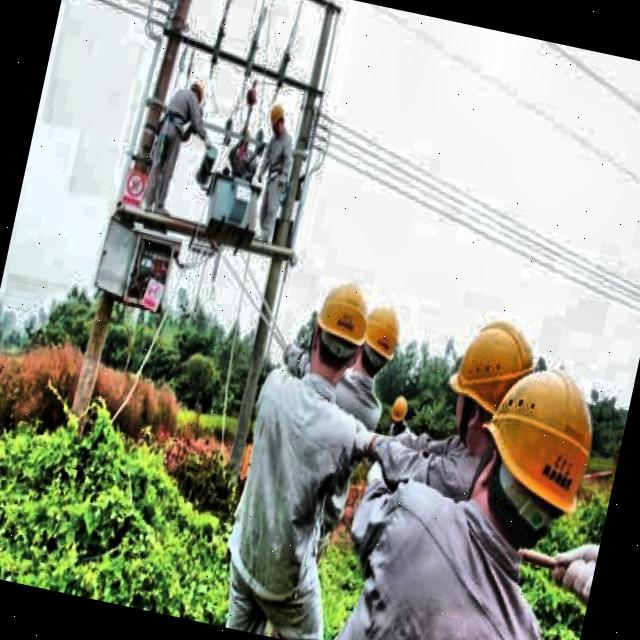helmet: (450, 338, 610, 540), (426, 301, 546, 467), (300, 263, 386, 389), (346, 284, 412, 389), (388, 388, 413, 433), (184, 74, 210, 113), (263, 102, 288, 138)
